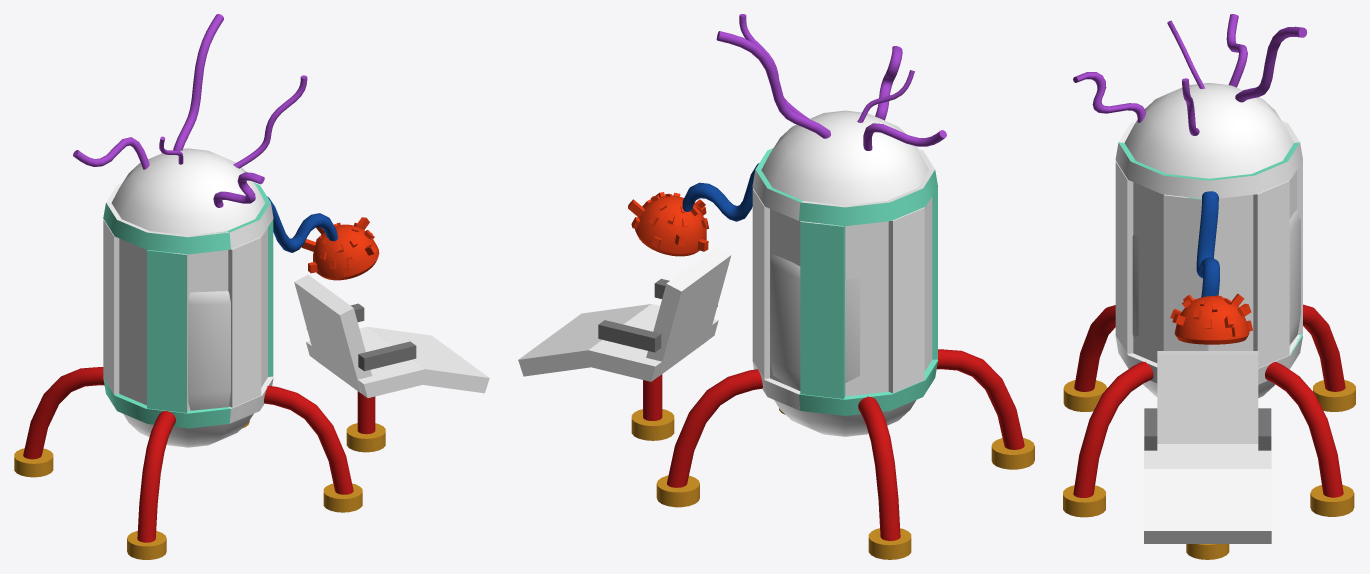
3 views of the same model, side by side, from view 1: azimuth 30°, elevation 25°; view 2: azimuth 150°, elevation 25°; view 3: azimuth 270°, elevation 25° (orthographic). The views are drawn at different scales.
Parts seen in each view (by area): view 1: Capsule004, Capsule001, Capsule002, Box001, Sphere001, Box003, Loft004, Loft003, Loft002, Box002, Loft007, Loft005 (+9 smaller); view 2: Capsule004, Capsule001, Box001, Capsule002, Sphere001, Box003, Loft001, Loft002, Loft003, Box002, Loft007, Loft005 (+8 smaller); view 3: Capsule004, Box003, Box001, Sphere001, Loft004, Loft001, Box002, Capsule002, Loft005, Loft002, Loft003, Loft007 (+12 smaller).
Boxes of the visible parts, <box> form: Capsule004: <box>103,148,273,447</box>; Capsule001: <box>103,183,273,428</box>; Capsule002: <box>188,291,230,410</box>; Box001: <box>294,275,372,393</box>; Sphere001: <box>301,217,379,280</box>; Box003: <box>368,327,489,393</box>; Loft004: <box>264,385,353,494</box>; Loft003: <box>137,411,175,542</box>; Loft002: <box>23,367,104,459</box>; Box002: <box>306,326,425,397</box>; Loft007: <box>173,14,223,150</box>; Loft005: <box>267,196,337,252</box>; Capsule004: <box>752,110,934,436</box>; Capsule001: <box>755,148,937,415</box>; Box001: <box>646,247,731,376</box>; Capsule002: <box>770,254,860,390</box>; Sphere001: <box>628,192,708,256</box>; Box003: <box>518,304,651,376</box>; Loft001: <box>667,369,762,487</box>; Loft002: <box>858,396,900,540</box>; Loft003: <box>936,349,1024,449</box>; Box002: <box>588,304,718,381</box>; Loft007: <box>716,31,830,138</box>; Loft005: <box>682,163,758,221</box>; Capsule004: <box>1115,83,1302,397</box>; Box003: <box>1144,469,1271,543</box>; Box001: <box>1157,351,1258,443</box>; Sphere001: <box>1170,293,1252,344</box>; Loft004: <box>1073,362,1153,497</box>; Loft001: <box>1265,362,1343,497</box>; Box002: <box>1144,436,1271,468</box>; Capsule002: <box>1132,209,1300,343</box>; Loft005: <box>1196,191,1219,297</box>; Loft002: <box>1303,304,1345,391</box>; Loft003: <box>1074,305,1115,391</box>; Loft007: <box>1235,26,1307,102</box>.
Bounding box in the file's own units: 169 × 177 × 101.
